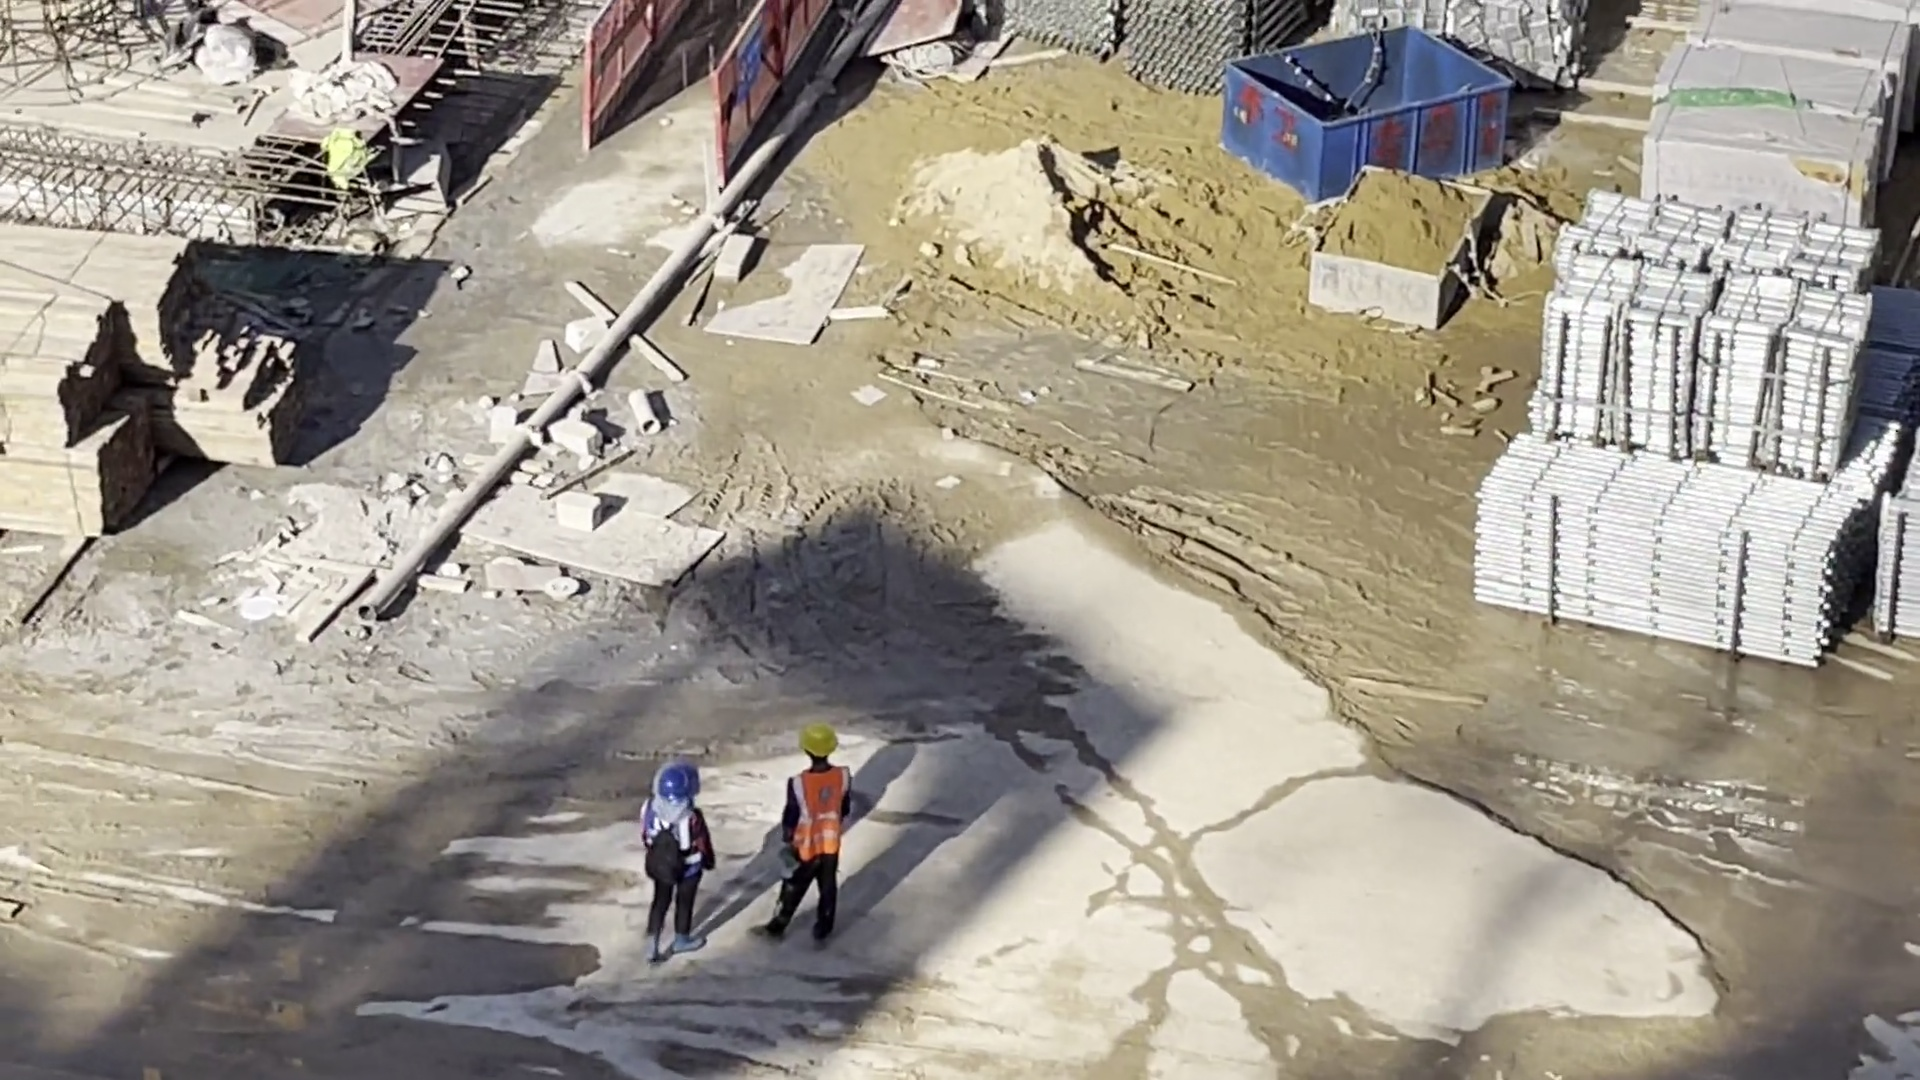fence: (589, 1, 828, 151)
helmet: (659, 767, 697, 801), (799, 726, 838, 756)
hopper: (1225, 27, 1508, 206), (1308, 168, 1490, 333)
person: (766, 727, 843, 949), (638, 762, 702, 961)
scaffold: (1475, 434, 1866, 661), (1550, 195, 1866, 473), (1000, 1, 1308, 87), (1886, 458, 1920, 633)
slogan: (738, 22, 762, 104)
vest: (636, 796, 701, 876), (790, 762, 844, 856)
wood: (1, 216, 206, 523)
